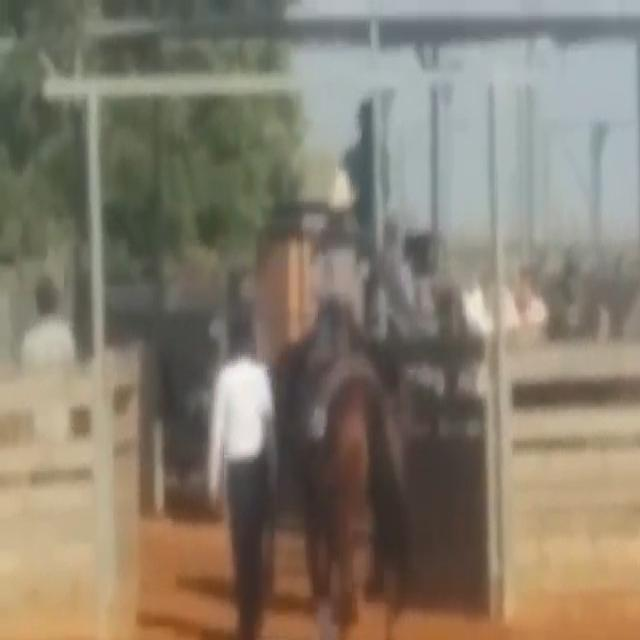horse: (269, 293, 412, 635)
